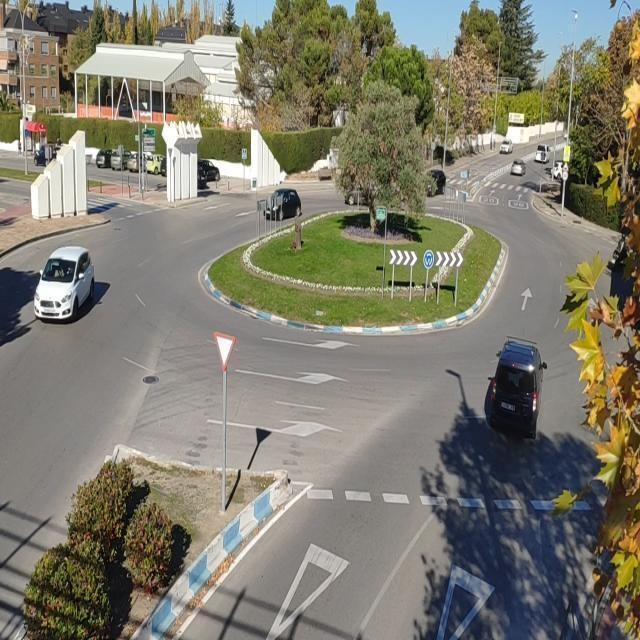Car: (468, 332, 562, 449), (25, 241, 95, 332), (252, 183, 306, 230), (420, 165, 455, 195), (503, 153, 531, 180), (492, 135, 520, 158), (531, 142, 555, 168), (549, 159, 572, 186)
